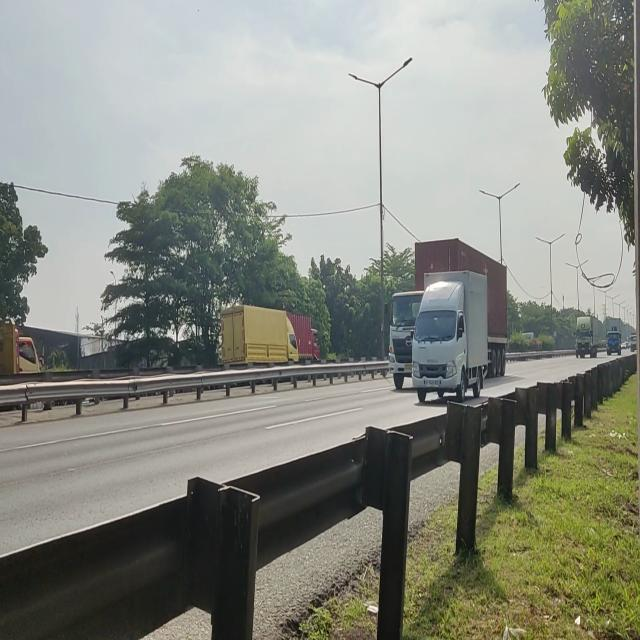Golongan II: (410, 278, 492, 405)
